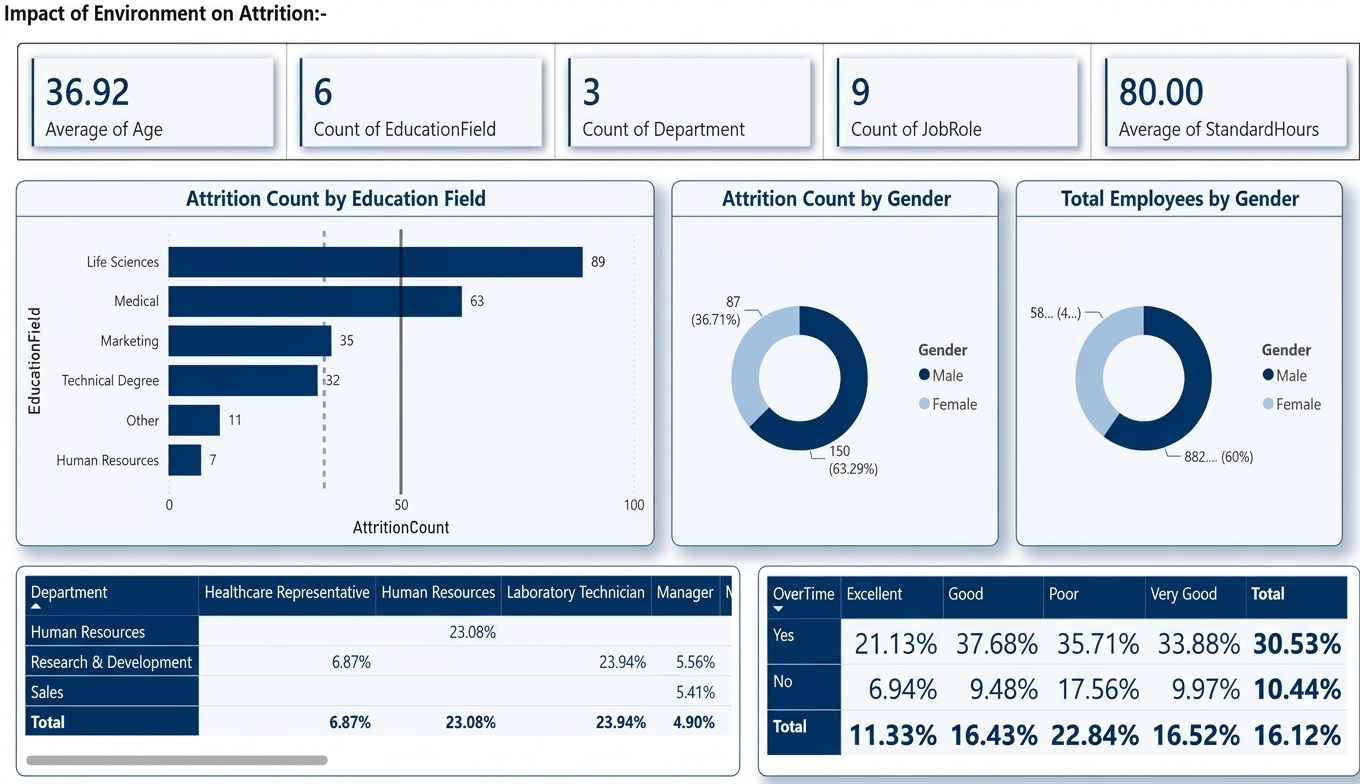

The dashboard page shown, as its layout file describes it:
{"tool":"powerbi","page":{"name":"Environmental Impact on Employees","canvas":[1280,720],"ordinal":1},"visuals":[{"type":"cardVisual","title":"Impact of Environment on Attrition:-","fields":{"Data":["Avg(HrData.Age)","Count(HrData.EducationField)","Count(HrData.Department)","Count(HrData.JobRole)","Avg(HrData.StandardHours)"]},"box":[0,0,1280.3,160.2],"z":0},{"type":"clusteredBarChart","title":"Attrition Count by Education Field","fields":{"Category":["WA_Fn-UseC_-HR-Employee-Attrition.EducationField"],"Y":["_calculations.AttritionCount"]},"box":[16,160,592,320],"z":1000},{"type":"donutChart","title":"Attrition Count by Gender","fields":{"Category":["WA_Fn-UseC_-HR-Employee-Attrition.Gender"],"Y":["_calculations.AttritionCount"]},"box":[624,160,304,320],"z":2000},{"type":"donutChart","fields":{"Y":["_calculations.Total Employees"],"Category":["WA_Fn-UseC_-HR-Employee-Attrition.Gender"]},"box":[944,160,304,320],"z":3000},{"type":"pivotTable","fields":{"Rows":["WA_Fn-UseC_-HR-Employee-Attrition.Department"],"Columns":["WA_Fn-UseC_-HR-Employee-Attrition.JobRole"],"Values":["_calculations.Attrition Rate"]},"box":[16,496,672,176],"z":4000},{"type":"pivotTable","fields":{"Rows":["WA_Fn-UseC_-HR-Employee-Attrition.OverTime"],"Columns":["HrData.JobSatisfactionLevel"],"Values":["_calculations.Attrition Rate"]},"box":[704,496,560,176],"z":5000}]}

Visuals, with their boxes in screenshot pixels (x1, y1, x2, y2), scaled from the page's 1280x720 canvas onto the 1360x784 screenshot:
"Impact of Environment on Attrition:-" cardVisual: region(0, 0, 1359, 174)
"Attrition Count by Education Field" clusteredBarChart: region(17, 174, 646, 523)
"Attrition Count by Gender" donutChart: region(663, 174, 986, 523)
donutChart - _calculations.Total Employees x WA_Fn-UseC_-HR-Employee-Attrition.Gender: region(1003, 174, 1326, 523)
pivotTable - WA_Fn-UseC_-HR-Employee-Attrition.Department x WA_Fn-UseC_-HR-Employee-Attrition.JobRole: region(17, 540, 731, 732)
pivotTable - WA_Fn-UseC_-HR-Employee-Attrition.OverTime x HrData.JobSatisfactionLevel: region(748, 540, 1343, 732)
